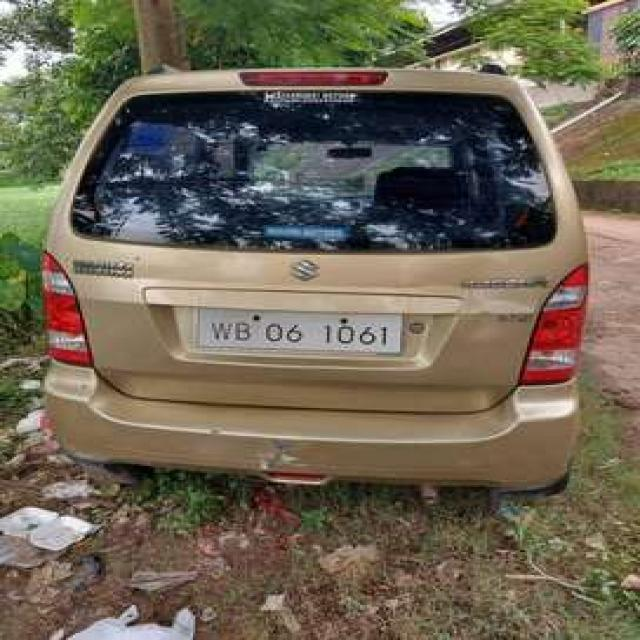Plate: (196, 305, 399, 349)
